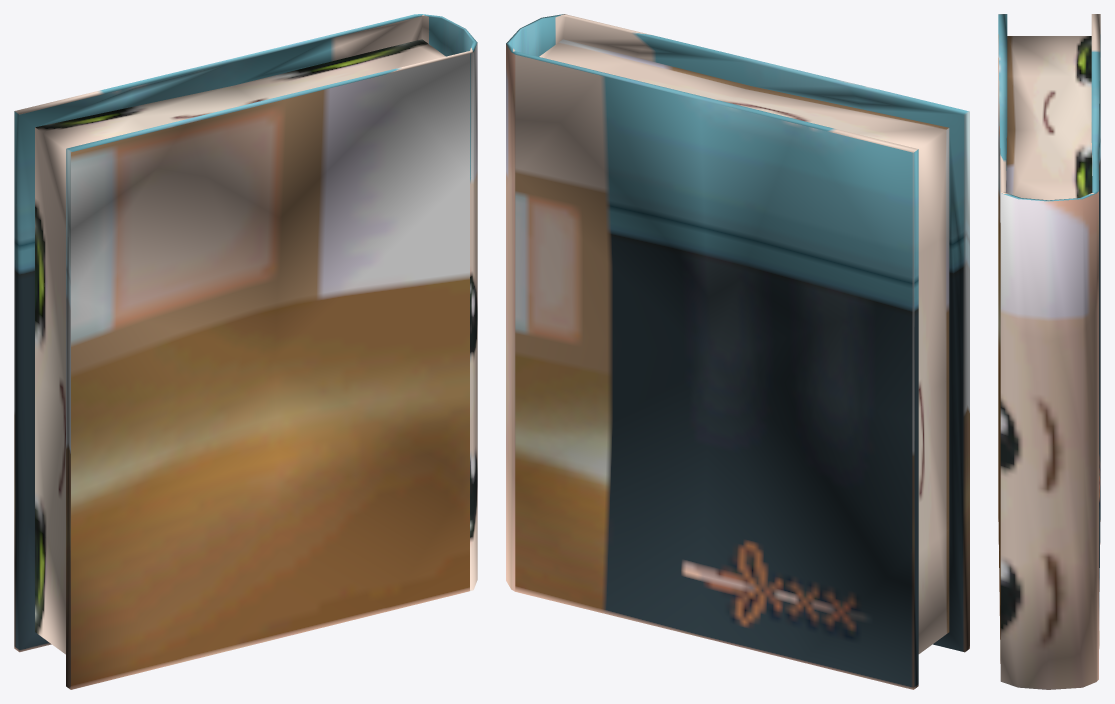
File: view.ico.obj
The picture shows the model from 3 angles, left to right: view 1: azimuth 30°, elevation 25°; view 2: azimuth 150°, elevation 25°; view 3: azimuth 270°, elevation 25°; orthographic projection. The views are drawn at different scales.
Size of the model in its own units: 2.93 by 3.56 by 0.6782.
